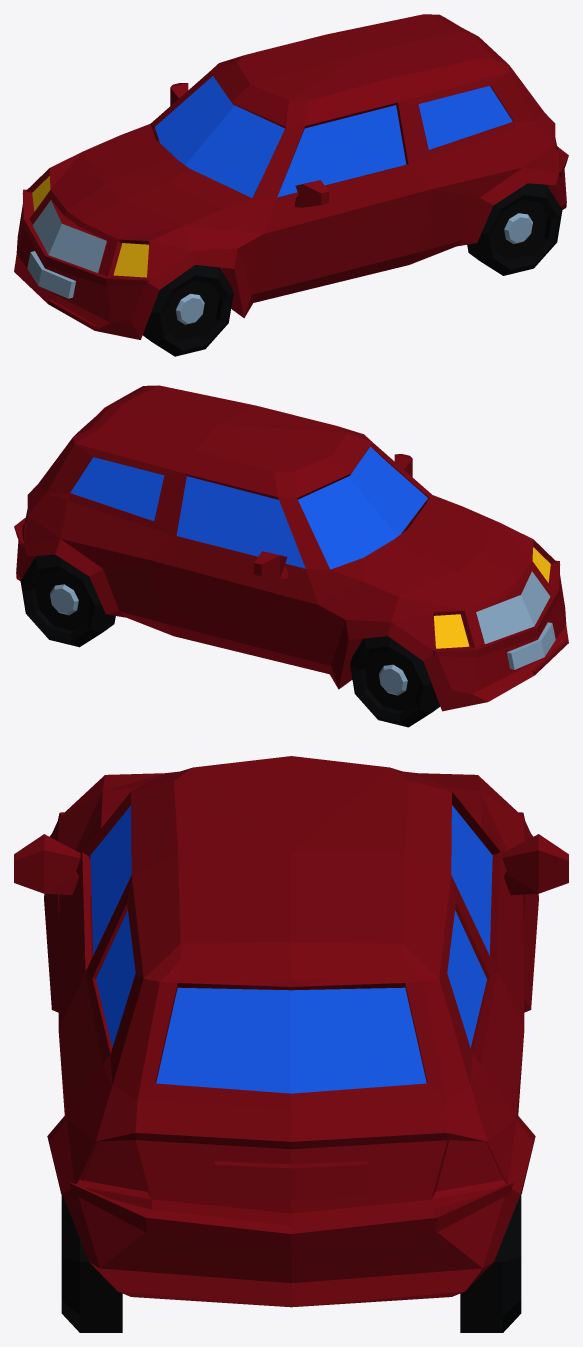
File: CarParts.fbx
3 views of the same model, one above another, from view 1: azimuth 30°, elevation 25°; view 2: azimuth 150°, elevation 25°; view 3: azimuth 270°, elevation 25° (orthographic). The views are drawn at different scales.
Visible parts, largest first — view 1: Object014, Object020, Object025, Object015, Object022, Object010, Object012, Object001, Object002, Object021, Car 016, Object013 (+5 smaller); view 2: Object019, Object014, Car 016, Object015, Object023, Object010, Object003, Object004, Object021, Object011, Object009, Object007 (+4 smaller); view 3: Object021, Object014, Object018, Object017, Object019, Object022, Object023, Object016, Object002, Object003, Object025, Car 016 (+7 smaller).
Boxes of the visible parts, x1,y1,x2,y2 form: Object014: [210, 14, 510, 128]; Object020: [254, 164, 431, 302]; Object025: [48, 126, 304, 339]; Object015: [49, 123, 252, 244]; Object022: [325, 72, 522, 264]; Object010: [155, 76, 284, 197]; Object012: [277, 105, 406, 197]; Object001: [143, 265, 233, 356]; Object002: [467, 183, 562, 275]; Object021: [365, 72, 566, 246]; Car 016: [14, 71, 212, 330]; Object013: [418, 86, 512, 149]; Object019: [151, 476, 329, 674]; Object014: [72, 385, 372, 499]; Car 016: [278, 497, 568, 711]; Object015: [331, 495, 533, 615]; Object023: [60, 444, 186, 623]; Object010: [298, 447, 427, 569]; Object003: [20, 554, 115, 647]; Object004: [350, 636, 440, 727]; Object021: [16, 444, 125, 617]; Object011: [70, 457, 164, 520]; Object009: [475, 571, 550, 644]; Object007: [432, 560, 560, 657]; Object021: [47, 973, 535, 1307]; Object014: [131, 756, 451, 990]; Object018: [112, 978, 470, 1108]; Object017: [69, 1183, 513, 1253]; Object019: [451, 805, 524, 1028]; Object022: [58, 875, 143, 1118]; Object023: [439, 875, 524, 1118]; Object016: [214, 1161, 368, 1200]; Object002: [61, 1192, 122, 1332]; Object003: [460, 1192, 521, 1332]; Object025: [44, 773, 164, 1012]; Car 016: [452, 775, 538, 1012].
Bounding box in the file's own units: 831 × 322 × 429.
